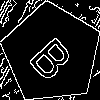B: (27, 28, 82, 84)
